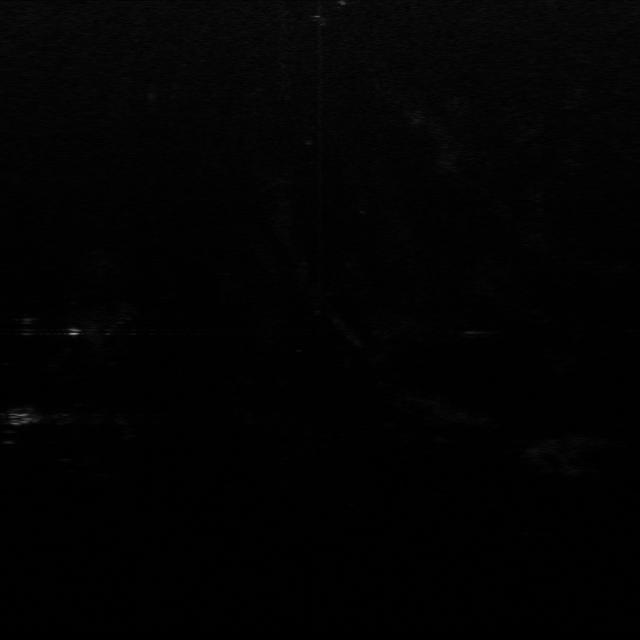rov: (3, 406, 39, 430)
